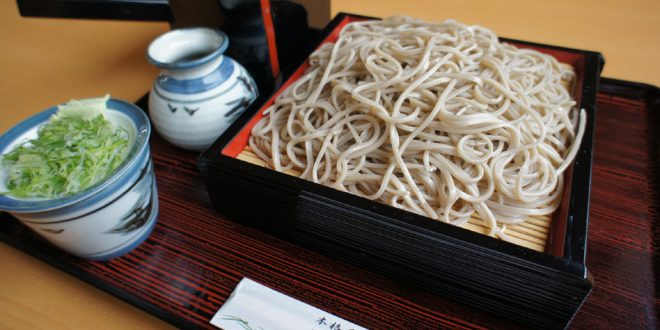Soba: (256, 19, 593, 247)
